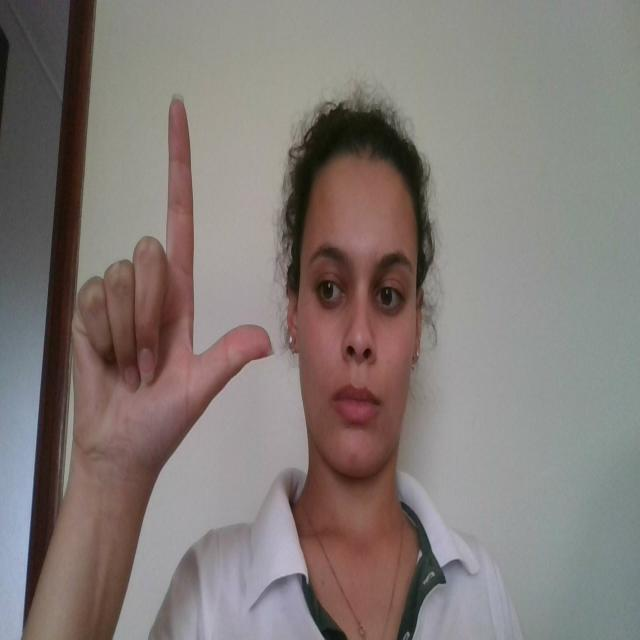L: (68, 90, 275, 460)
